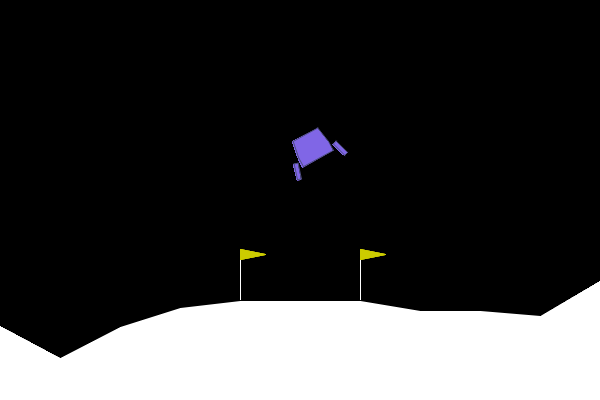lander: (278, 119, 349, 183)
